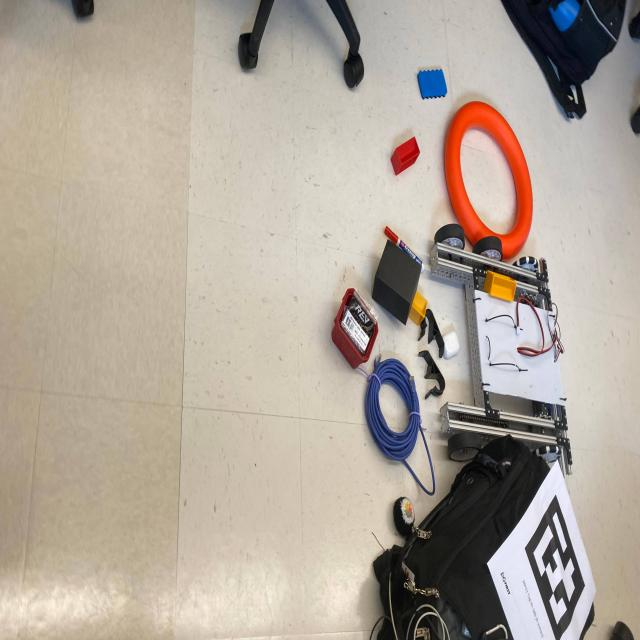red-specimen: (391, 136, 420, 175)
yellow-specimen: (484, 270, 516, 301), (409, 291, 427, 325)
